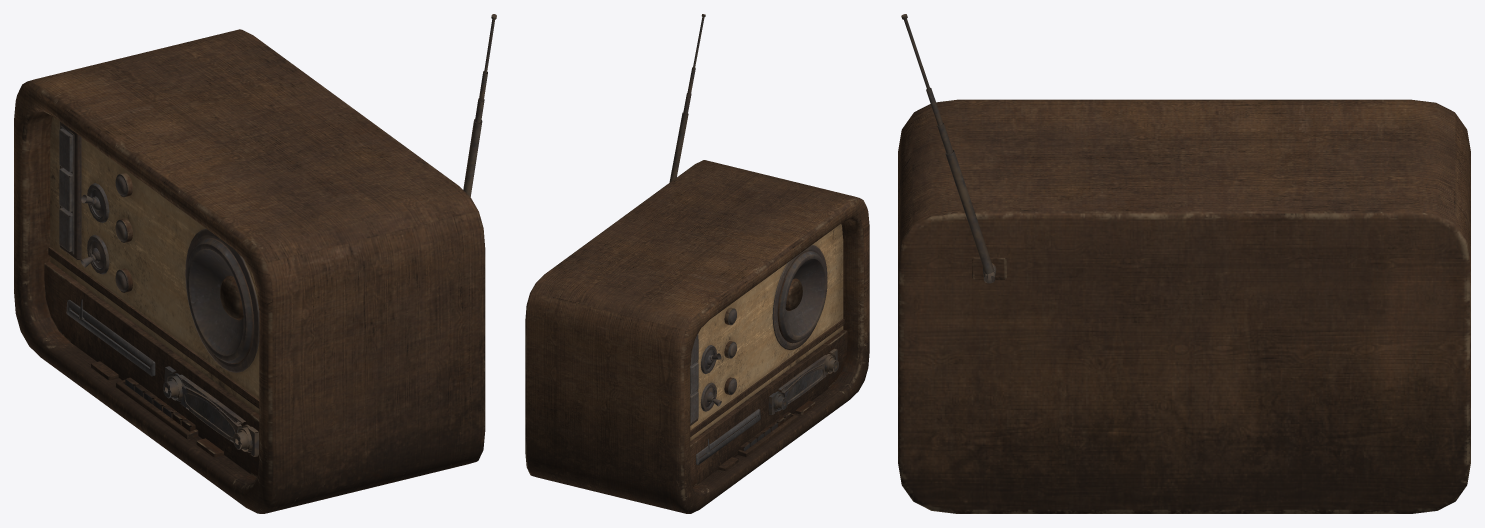
Rendered from SM_Radio.fbx.
3 renders of one model, left to right at view 1: azimuth 30°, elevation 25°; view 2: azimuth 150°, elevation 25°; view 3: azimuth 270°, elevation 25°, orthographic. The views are drawn at different scales.
Parts seen in each view (by area): view 1: SM_Radio_LOD0; view 2: SM_Radio_LOD0; view 3: SM_Radio_LOD0.
Boxes of the visible parts, box(x1,y1,x2,y2) form: SM_Radio_LOD0: box(14, 14, 496, 513); SM_Radio_LOD0: box(525, 14, 869, 513); SM_Radio_LOD0: box(898, 14, 1470, 513).
Size of the model in its own units: 22.85 by 42.69 by 41.63.
Materials: 1 (1 with a texture image).
